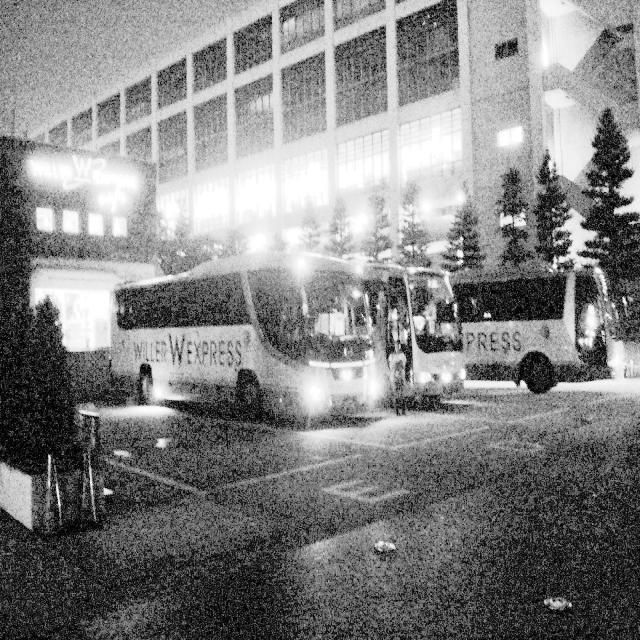Bus: (105, 266, 374, 444), (322, 239, 487, 415), (462, 216, 608, 413)
